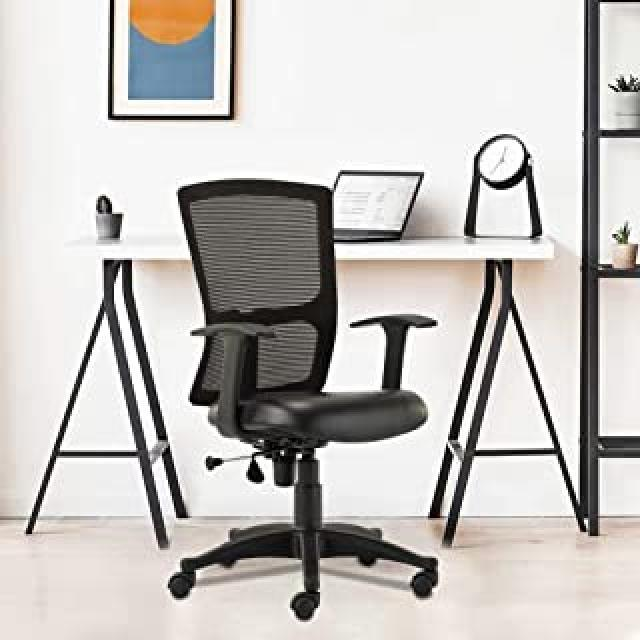chair: (168, 144, 444, 640)
